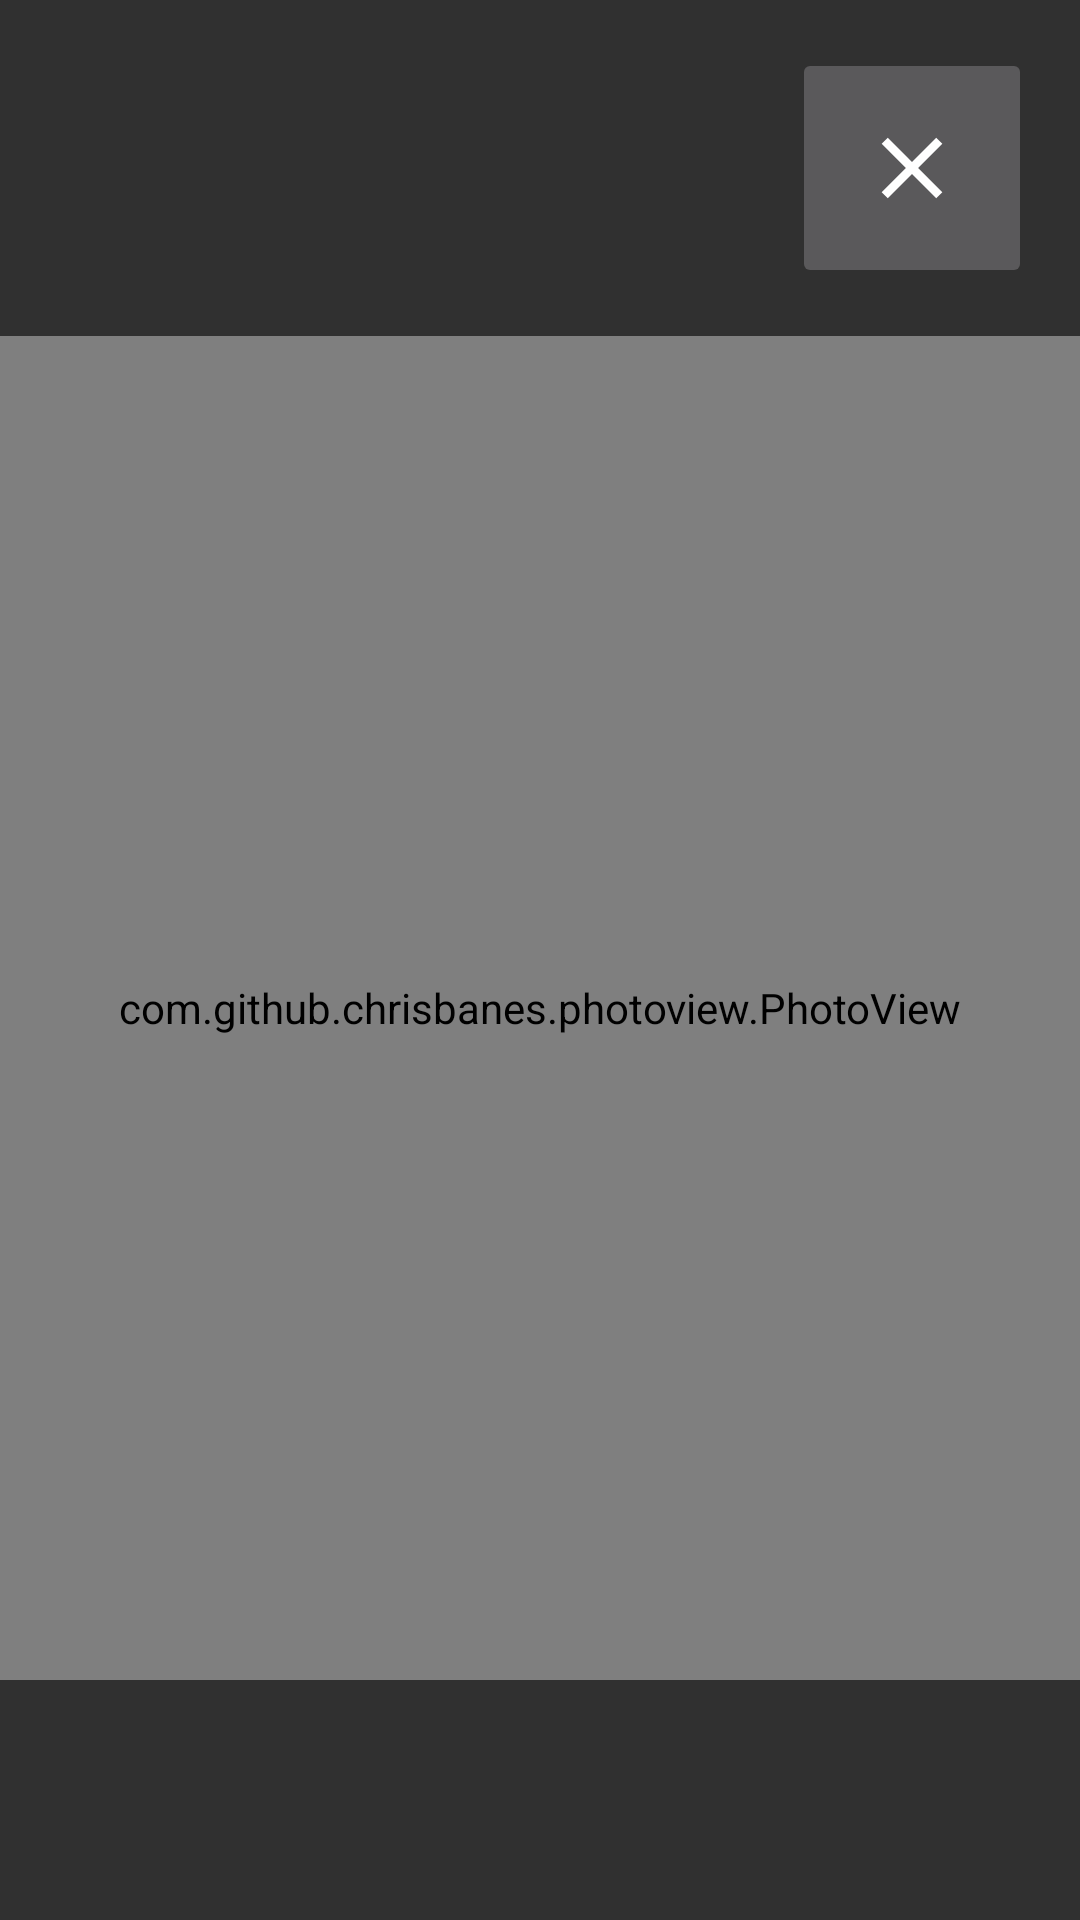

Where icons sit on this 1080w x 1920h app screen, as {"x1": x1, "y1": y1, "x2": x2, "y2": y2}:
close: {"x1": 804, "y1": 66, "x2": 1020, "y2": 270}
